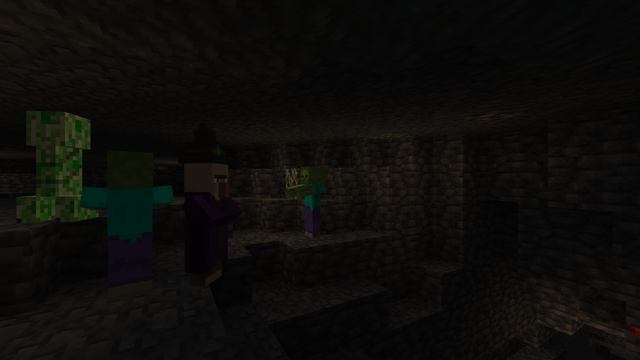creepers: (23, 102, 90, 223)
sorcieres: (185, 157, 229, 291)
zombies: (98, 153, 156, 307), (298, 167, 326, 238)
